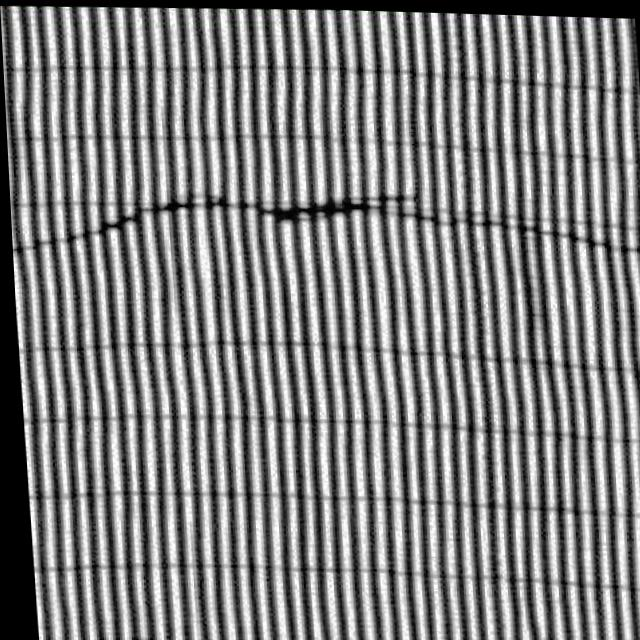Stitch: (78, 156, 543, 276)
